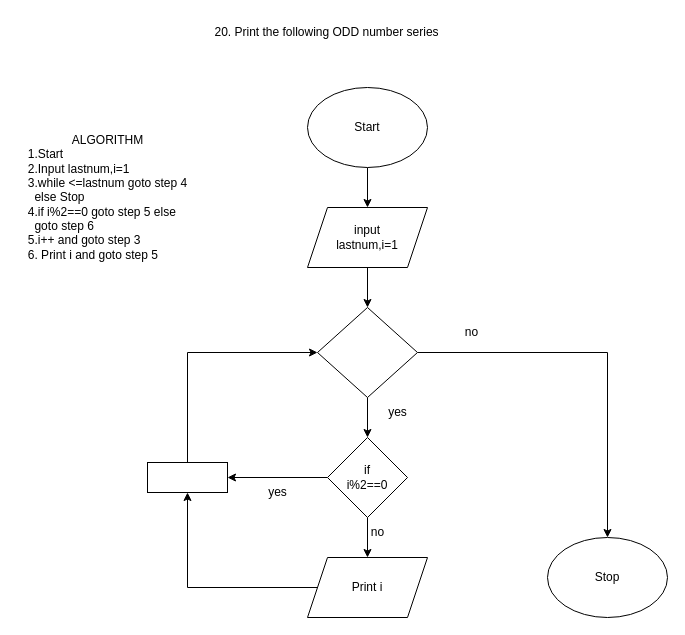
The diagram is 685 pixels wide and 635 high, and some of its shapes have lost their labels. Each missing label, with the centre of its shape:
"i++" belongs at point (187, 477).
"while i<=lastnum" belongs at point (367, 352).
